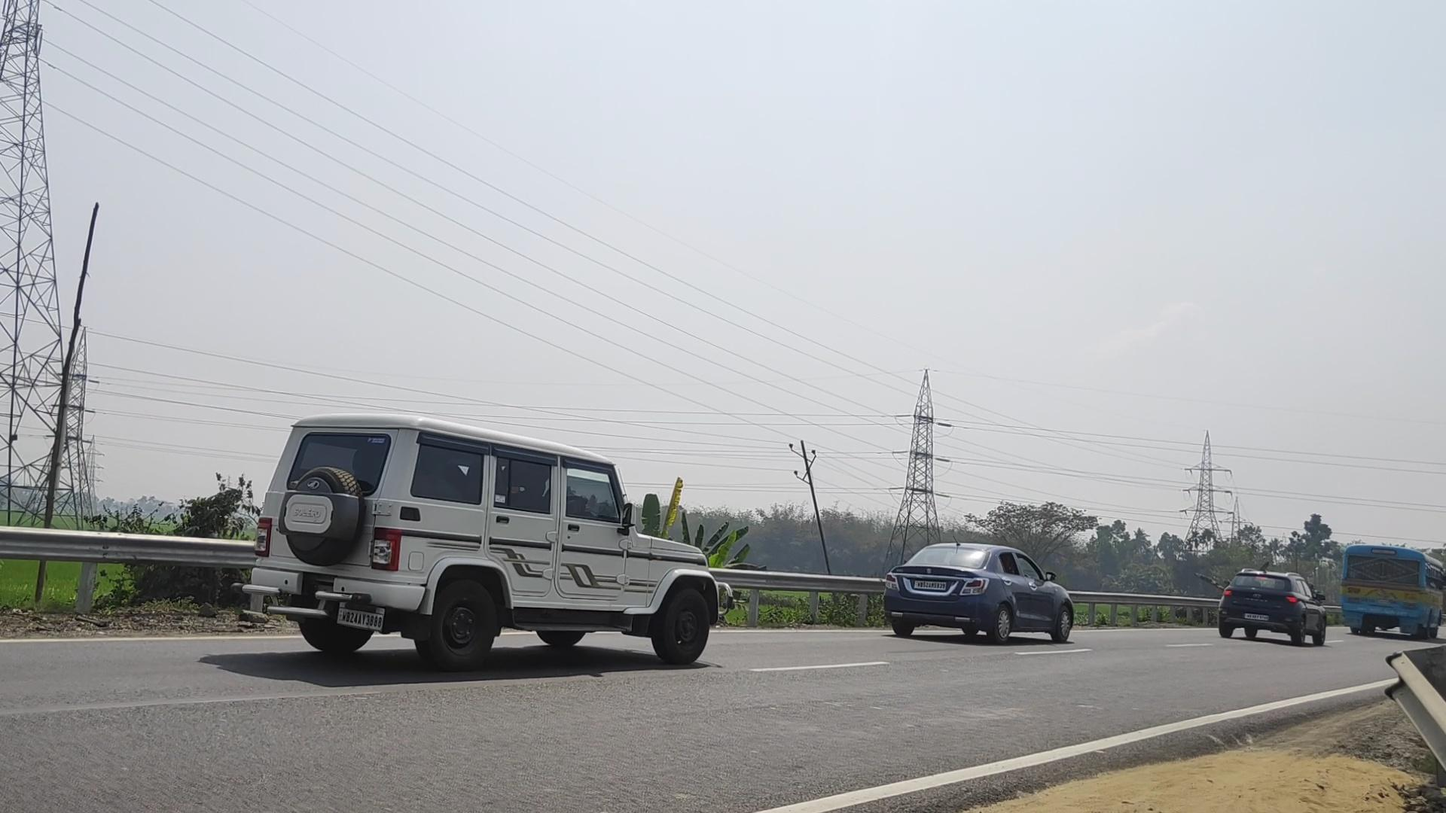Bus: (1341, 544, 1445, 641)
car: (232, 412, 733, 675), (883, 542, 1075, 646), (1218, 568, 1328, 647)
